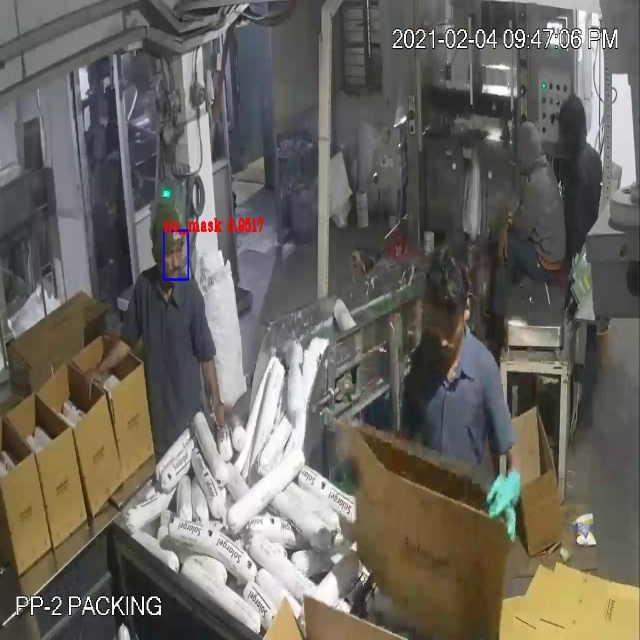Guantes: (484, 453, 550, 547)
Sin_guantes: (72, 318, 136, 394), (204, 346, 229, 443)
